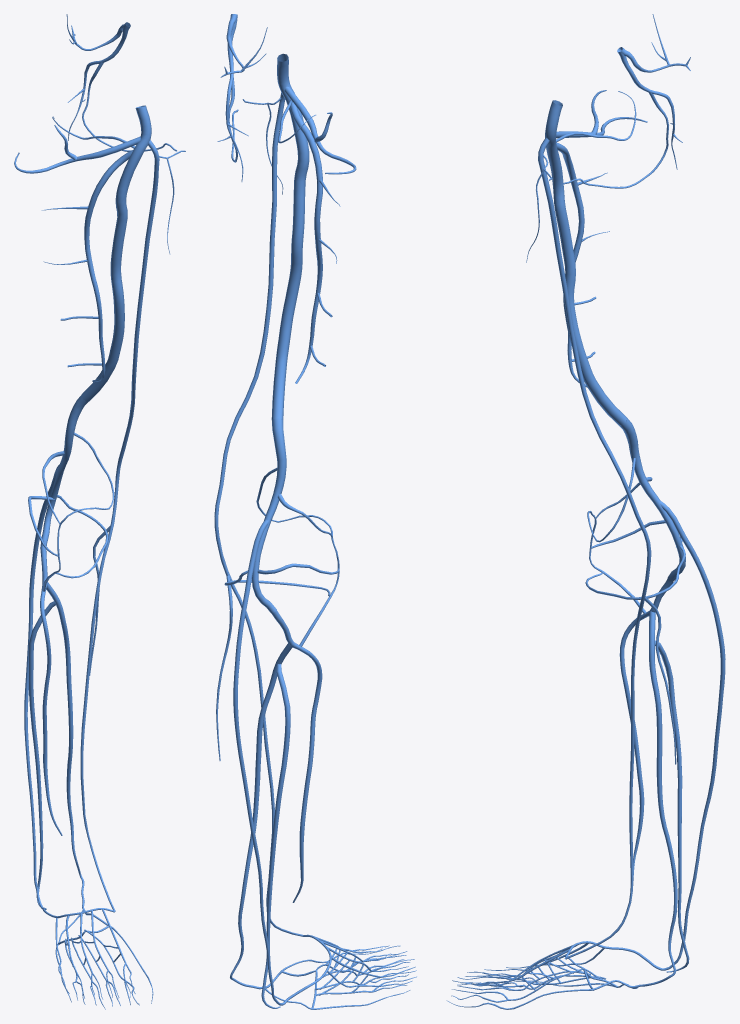
Rendered from veins.glb.
The picture shows the model from 3 angles, left to right: view 1: azimuth 30°, elevation 25°; view 2: azimuth 150°, elevation 25°; view 3: azimuth 270°, elevation 25°; orthographic projection. The views are drawn at different scales.
Visible parts, largest first — view 1: Great saphenous vein.r.001, Femoral vein.r.001, Small saphenous vein.r.001, Genicular veins.r.001, Posterior tibial veins.r.001, Deep femoral vein.r.001, Fibular veins.r.001, Anterior tibial veins.r.001, Popliteal vein.r.001, Lateral circumflex femoral veins.r.001, Dorsal metatarsal veins.r.001, Plantar digital veins.r.001 (+1 smaller); view 2: Great saphenous vein.r.001, Femoral vein.r.001, Small saphenous vein.r.001, Posterior tibial veins.r.001, Fibular veins.r.001, Deep femoral vein.r.001, Popliteal vein.r.001, Genicular veins.r.001, Anterior tibial veins.r.001, Lateral circumflex femoral veins.r.001, Plantar digital veins.r.001, Inferior gluteal veins.r.001 (+2 smaller); view 3: Great saphenous vein.r.001, Femoral vein.r.001, Small saphenous vein.r.001, Posterior tibial veins.r.001, Fibular veins.r.001, Genicular veins.r.001, Anterior tibial veins.r.001, Popliteal vein.r.001, Deep femoral vein.r.001, Plantar digital veins.r.001.
Part boxes in pixels (x1,y1,x2,y2): Great saphenous vein.r.001: [80, 140, 159, 911]; Femoral vein.r.001: [81, 105, 151, 401]; Small saphenous vein.r.001: [24, 464, 59, 909]; Genicular veins.r.001: [28, 432, 114, 591]; Posterior tibial veins.r.001: [46, 582, 84, 908]; Deep femoral vein.r.001: [84, 149, 133, 382]; Fibular veins.r.001: [28, 601, 55, 906]; Anterior tibial veins.r.001: [40, 540, 62, 835]; Popliteal vein.r.001: [41, 394, 88, 541]; Lateral circumflex femoral veins.r.001: [14, 125, 140, 173]; Dorsal metatarsal veins.r.001: [55, 908, 126, 975]; Plantar digital veins.r.001: [55, 944, 153, 1009]; Great saphenous vein.r.001: [214, 92, 303, 936]; Femoral vein.r.001: [271, 53, 309, 419]; Small saphenous vein.r.001: [233, 519, 307, 1005]; Posterior tibial veins.r.001: [230, 643, 292, 989]; Fibular veins.r.001: [261, 664, 290, 1008]; Deep femoral vein.r.001: [290, 102, 322, 383]; Popliteal vein.r.001: [251, 418, 286, 613]; Genicular veins.r.001: [224, 468, 339, 646]; Anterior tibial veins.r.001: [271, 610, 322, 902]; Lateral circumflex femoral veins.r.001: [284, 86, 356, 174]; Plantar digital veins.r.001: [312, 948, 416, 1009]; Inferior gluteal veins.r.001: [217, 14, 248, 181]; Great saphenous vein.r.001: [538, 138, 676, 959]; Femoral vein.r.001: [545, 100, 626, 425]; Small saphenous vein.r.001: [638, 500, 725, 970]; Posterior tibial veins.r.001: [640, 611, 677, 986]; Fibular veins.r.001: [655, 640, 689, 972]; Genicular veins.r.001: [585, 458, 685, 614]; Anterior tibial veins.r.001: [619, 579, 673, 880]; Popliteal vein.r.001: [619, 417, 685, 581]; Deep femoral vein.r.001: [556, 142, 587, 387]; Plantar digital veins.r.001: [446, 976, 615, 1009].
Size of the model in its own units: 0.1471 by 0.9496 by 0.2403.
